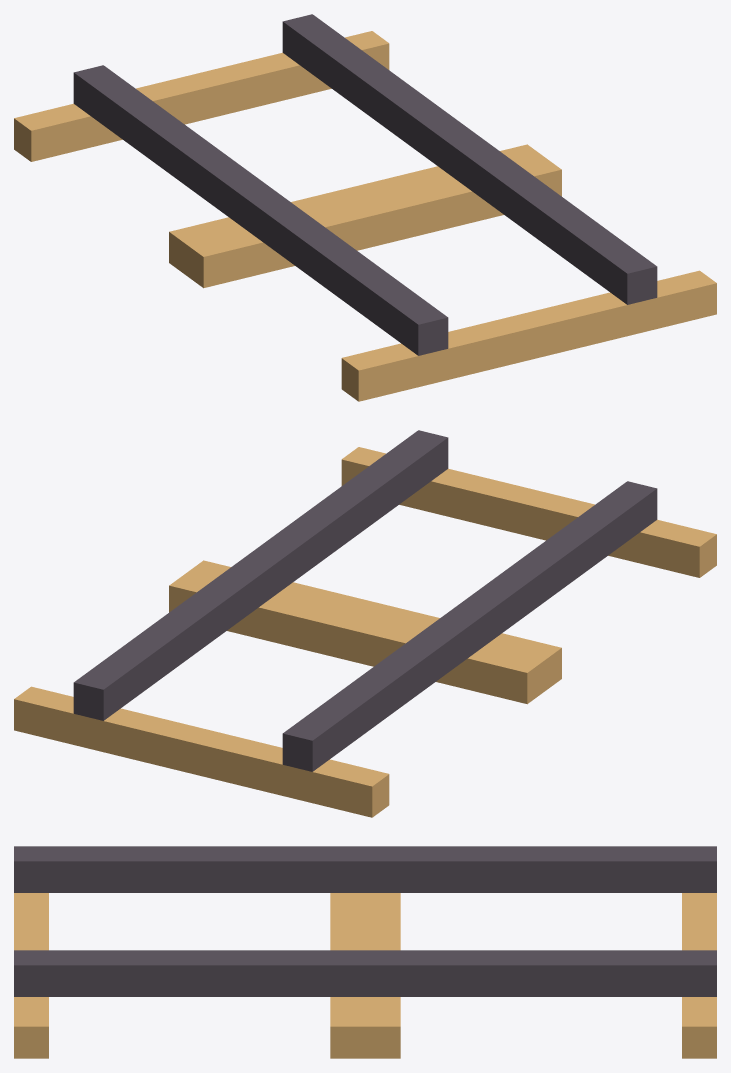
The model's file is rail-vertical.glb.
3 views of the same model, one above another, from view 1: azimuth 30°, elevation 25°; view 2: azimuth 150°, elevation 25°; view 3: azimuth 270°, elevation 25° (orthographic).
Parts seen in each view (by area): view 1: Rail-Right, Rail-Left, HalfslatBottom, Slat, HalfslatTop; view 2: Rail-Right, Rail-Left, HalfslatTop, Slat, HalfslatBottom; view 3: Rail-Left, Rail-Right, Slat, HalfslatTop, HalfslatBottom.
Part boxes in pixels (x1=…): Rail-Right: x1=282, y1=14, x2=657, y2=304; Rail-Left: x1=73, y1=65, x2=448, y2=355; HalfslatBottom: x1=341, y1=270, x2=716, y2=401; Slat: x1=169, y1=144, x2=561, y2=288; HalfslatTop: x1=14, y1=31, x2=389, y2=161; Rail-Right: x1=73, y1=430, x2=448, y2=720; Rail-Left: x1=282, y1=481, x2=657, y2=771; HalfslatTop: x1=14, y1=686, x2=389, y2=817; Slat: x1=169, y1=560, x2=561, y2=704; HalfslatBottom: x1=341, y1=447, x2=716, y2=577; Rail-Left: x1=14, y1=846, x2=716, y2=892; Rail-Right: x1=14, y1=950, x2=716, y2=996; Slat: x1=330, y1=893, x2=400, y2=1058; HalfslatTop: x1=682, y1=893, x2=716, y2=1058; HalfslatBottom: x1=14, y1=893, x2=48, y2=1058.
Size of the model in its own units: 1.2 by 0.2 by 2.
